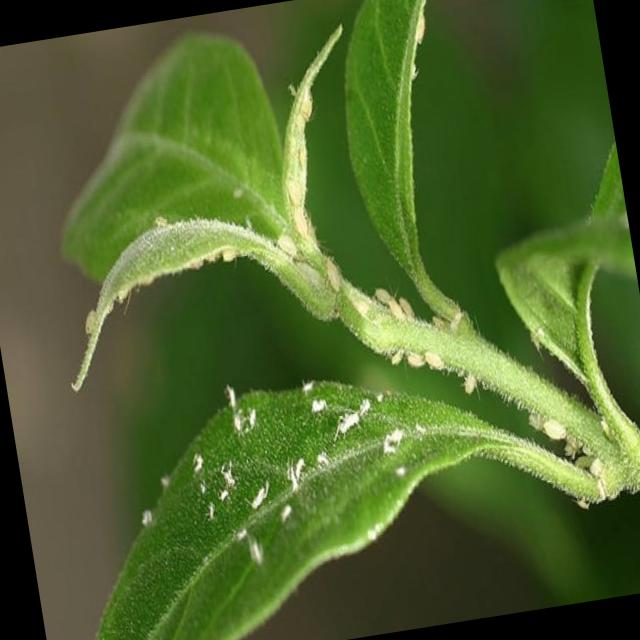aphid: (532, 398, 576, 461), (316, 228, 350, 306), (144, 198, 180, 241), (367, 271, 400, 312), (456, 361, 488, 403), (444, 298, 469, 349), (392, 282, 417, 328), (382, 334, 407, 376), (226, 172, 248, 206)
